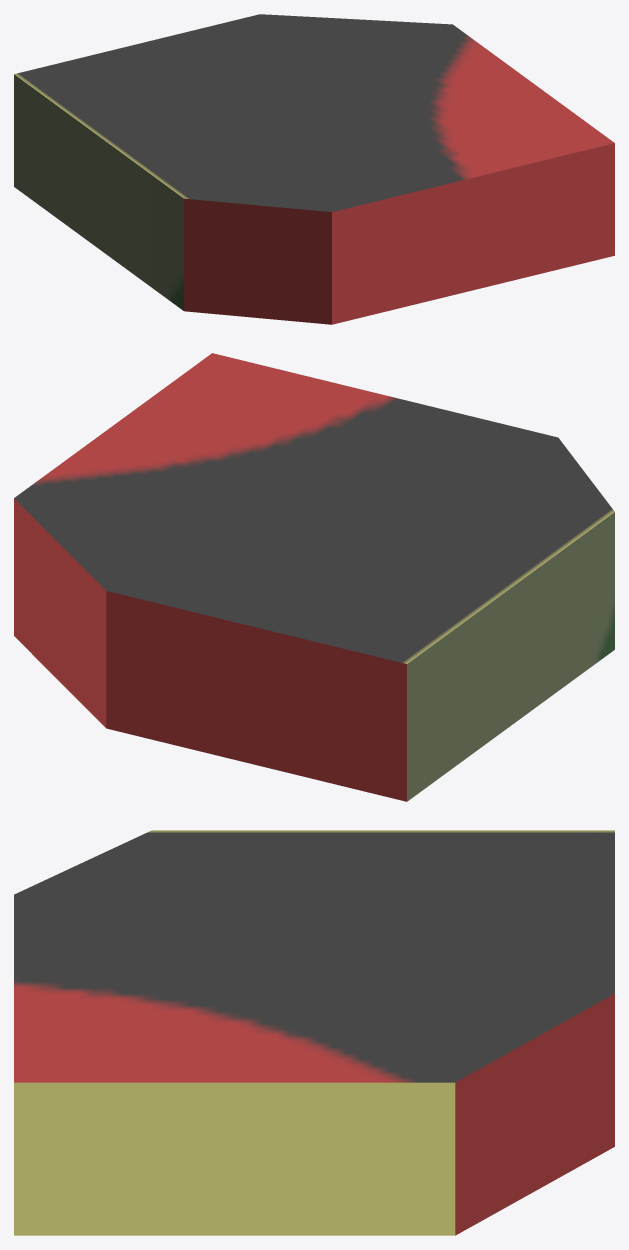
File: 2W_3F_building_parts7.fbx
The picture shows the model from 3 angles, top to bottom: view 1: azimuth 30°, elevation 25°; view 2: azimuth 150°, elevation 25°; view 3: azimuth 270°, elevation 25°; orthographic projection. The views are drawn at different scales.
Visible parts, largest first — view 1: Object140; view 2: Object140; view 3: Object140.
Part boxes in pixels (left/top/right/bottom): Object140: left=14, top=14, right=614, bottom=324; Object140: left=14, top=353, right=614, bottom=801; Object140: left=14, top=830, right=614, bottom=1235.
Bounding box in the file's own units: 292 × 82.78 × 294.
